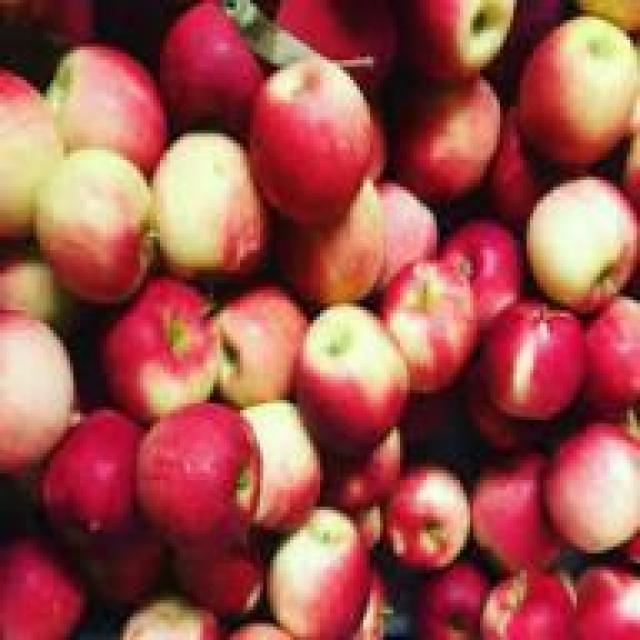apple: (393, 60, 527, 223), (113, 410, 257, 537), (517, 20, 630, 163), (36, 154, 146, 294), (260, 70, 367, 213), (150, 134, 250, 284), (40, 46, 163, 166), (304, 310, 414, 443), (107, 270, 210, 410), (523, 184, 640, 304), (257, 513, 370, 637), (470, 440, 573, 570), (276, 186, 386, 306), (480, 297, 587, 420), (40, 397, 137, 530), (223, 393, 320, 520), (380, 264, 473, 394), (547, 423, 633, 560), (217, 290, 300, 410), (440, 223, 533, 327), (7, 310, 70, 463), (377, 460, 470, 563), (417, 3, 510, 87), (487, 560, 573, 637)
